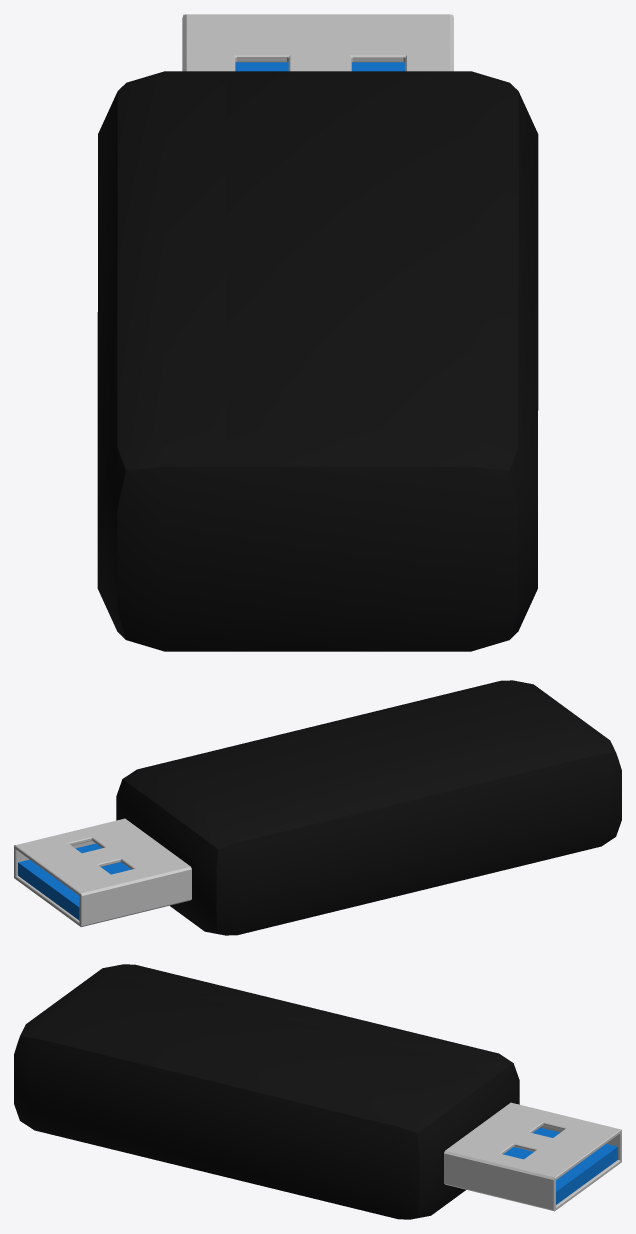
Rendered from usb-flash-drive.glb.
The picture shows the model from 3 angles, top to bottom: view 1: azimuth 30°, elevation 25°; view 2: azimuth 150°, elevation 25°; view 3: azimuth 270°, elevation 25°; orthographic projection. The views are drawn at different scales.
Visible parts, largest first — view 1: Object_96, Object_97; view 2: Object_96, Object_97; view 3: Object_96, Object_97.
Boxes of the visible parts, bbox=[...] form: Object_96: bbox=[97, 62, 538, 651]; Object_97: bbox=[182, 14, 453, 71]; Object_96: bbox=[18, 680, 621, 935]; Object_97: bbox=[14, 818, 191, 927]; Object_96: bbox=[14, 964, 617, 1219]; Object_97: bbox=[444, 1102, 621, 1211].
Size of the model in its own units: 0.0849 by 0.0231 by 0.1152.
Materials: 2 (2 with a texture image).
